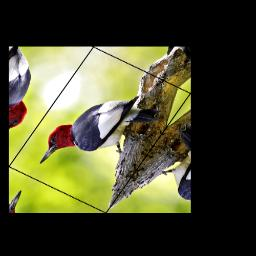Woodpecker: (33, 74, 167, 194)
